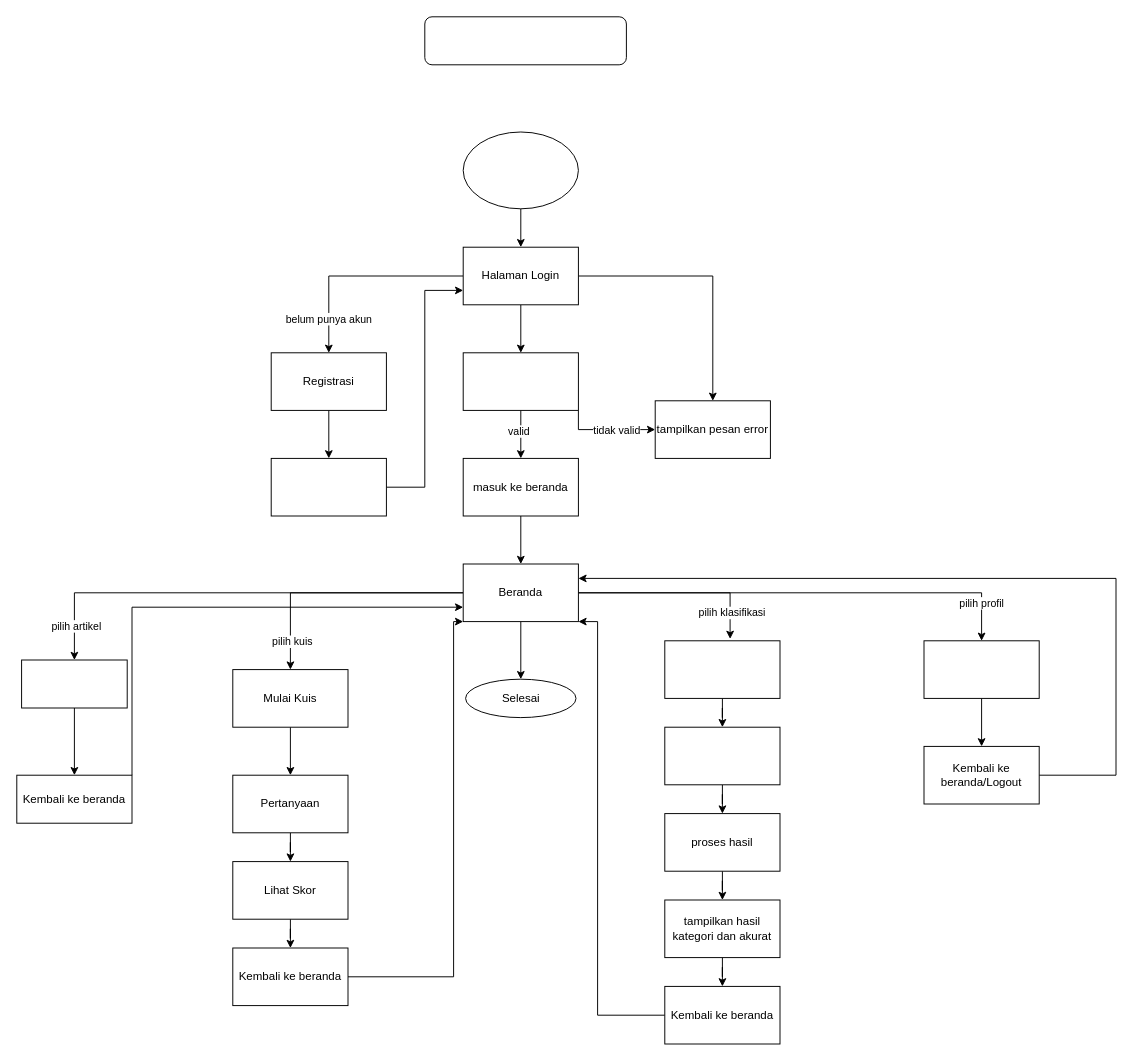
The diagram is 1140 pixels wide and 1061 high, and some of its shapes have lost their labels. Each missing label, with the centre of its shape:
"Baca Artikel" goes at (74,683).
"BINCLASS" goes at (525,40).
"Lihat data riwayat" goes at (981,669).
"Mulai" goes at (520,170).
"Mulai klasifikasi" goes at (722,669).
"simpan data user" goes at (328,486).
"Upload gambar" goes at (722,755).
"Verifikasi Login" goes at (520,381).
